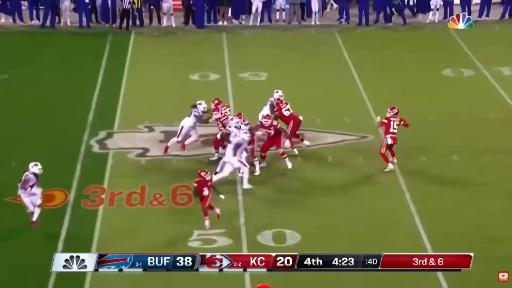Helmet: (240, 126, 250, 141), (29, 163, 42, 174), (261, 115, 272, 126), (196, 101, 207, 112), (198, 171, 211, 180), (387, 107, 398, 116), (211, 99, 222, 108), (229, 116, 239, 125), (213, 107, 221, 118), (274, 90, 283, 98), (275, 98, 284, 105), (236, 113, 243, 119)
Jersey: (226, 129, 250, 159), (380, 117, 407, 142), (275, 102, 298, 126), (18, 172, 38, 192), (259, 121, 282, 137), (194, 179, 211, 197), (216, 114, 229, 133), (188, 108, 203, 124), (217, 103, 233, 117), (262, 98, 275, 114), (227, 126, 235, 133), (162, 0, 171, 4)
Player: (213, 123, 252, 189), (164, 101, 209, 153), (377, 107, 409, 171), (275, 99, 309, 153), (259, 115, 291, 168), (18, 163, 42, 228), (194, 171, 220, 229), (236, 113, 260, 175), (209, 110, 229, 160), (259, 90, 283, 120), (211, 99, 231, 117), (60, 0, 71, 25)
